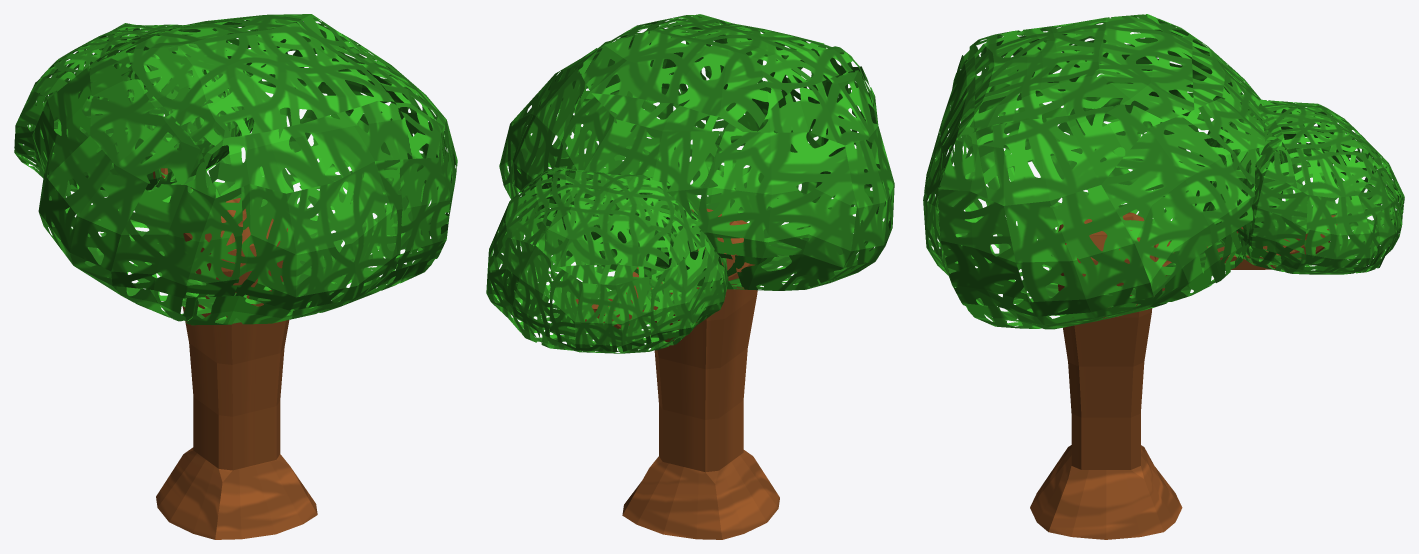
Rendered from Tree Oak.fbx.
3 renders of one model, left to right at view 1: azimuth 30°, elevation 25°; view 2: azimuth 150°, elevation 25°; view 3: azimuth 270°, elevation 25°, orthographic. The views are drawn at different scales.
Parts seen in each view (by area): view 1: Plane.001, Cube, Plane; view 2: Plane.001, Plane, Cube; view 3: Plane.001, Plane, Cube.
Part boxes in pixels (<box>): Plane.001: <box>32,14,457,325</box>; Cube: <box>153,168,317,539</box>; Plane: <box>14,23,254,191</box>; Plane.001: <box>499,14,894,290</box>; Plane: <box>486,167,728,353</box>; Cube: <box>575,208,779,539</box>; Plane.001: <box>923,14,1284,329</box>; Plane: <box>1195,99,1404,274</box>; Cube: <box>1030,212,1337,539</box>.
Bounding box in the file's own units: 834 × 885 × 708.
Materials: 2 (2 with a texture image).
